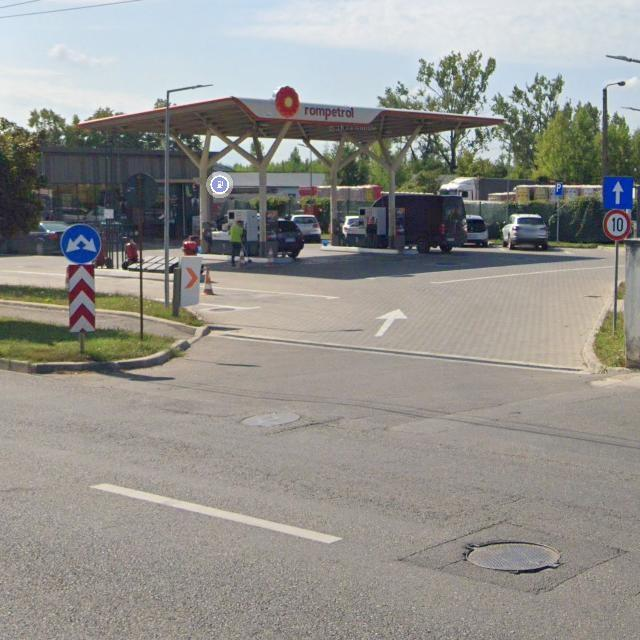forb_speed_over_10: (603, 211, 631, 241)
